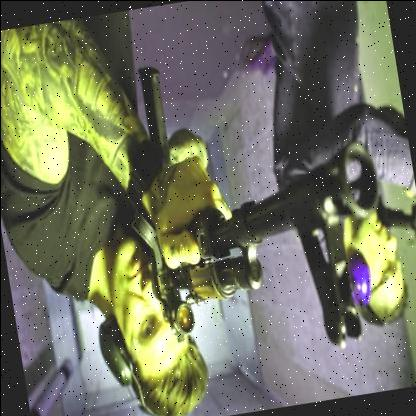rifle: (109, 30, 397, 353)
